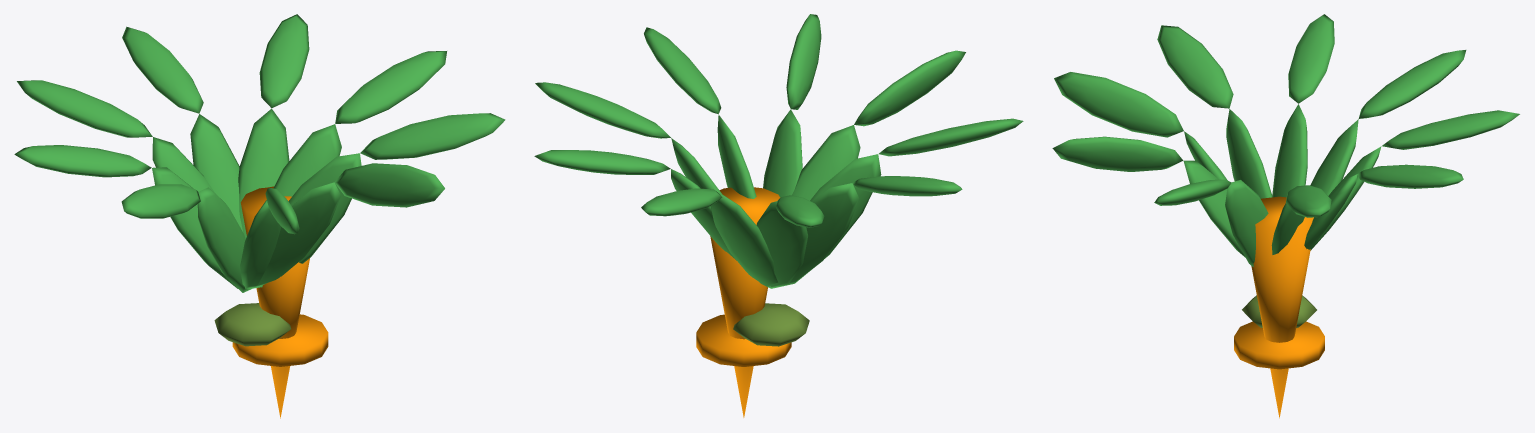
The model's file is root_carrot.glb.
3 renders of one model, left to right at view 1: azimuth 30°, elevation 25°; view 2: azimuth 150°, elevation 25°; view 3: azimuth 270°, elevation 25°, orthographic. The views are drawn at different scales.
Parts seen in each view (by area): view 1: Leaf, Fruit, Stem; view 2: Leaf, Fruit, Stem; view 3: Leaf, Fruit, Stem.
Part boxes in pixels (x1=…): Leaf: x1=14, y1=14, x2=505, y2=292; Fruit: x1=232, y1=186, x2=328, y2=418; Stem: x1=214, y1=303, x2=291, y2=346; Leaf: x1=534, y1=14, x2=1023, y2=288; Fruit: x1=696, y1=187, x2=791, y2=417; Stem: x1=733, y1=303, x2=809, y2=346; Leaf: x1=1052, y1=14, x2=1519, y2=266; Fruit: x1=1234, y1=196, x2=1324, y2=418; Stem: x1=1242, y1=295, x2=1316, y2=327.
Size of the model in its own units: 0.6248 by 0.4354 by 0.6166.
